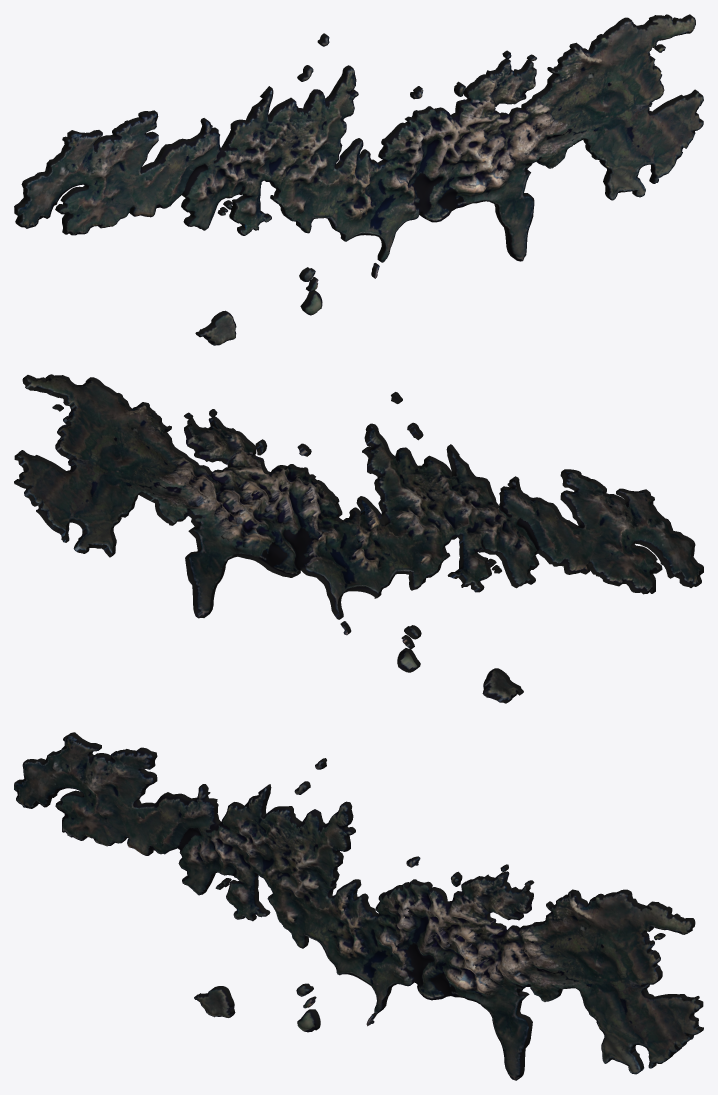
Rendered from isladelosestados_final.fbx.
3 renders of one model, top to bottom at view 1: azimuth 30°, elevation 25°; view 2: azimuth 150°, elevation 25°; view 3: azimuth 330°, elevation 25°, orthographic.
Visible parts, largest first — view 1: isladelosestados_low; view 2: isladelosestados_low; view 3: isladelosestados_low.
Part boxes in pixels (<box>): isladelosestados_low: <box>14,14,703,345</box>; isladelosestados_low: <box>14,374,703,703</box>; isladelosestados_low: <box>14,732,703,1080</box>.
Bounding box in the file's own units: 189 × 74.34 × 5.47.
